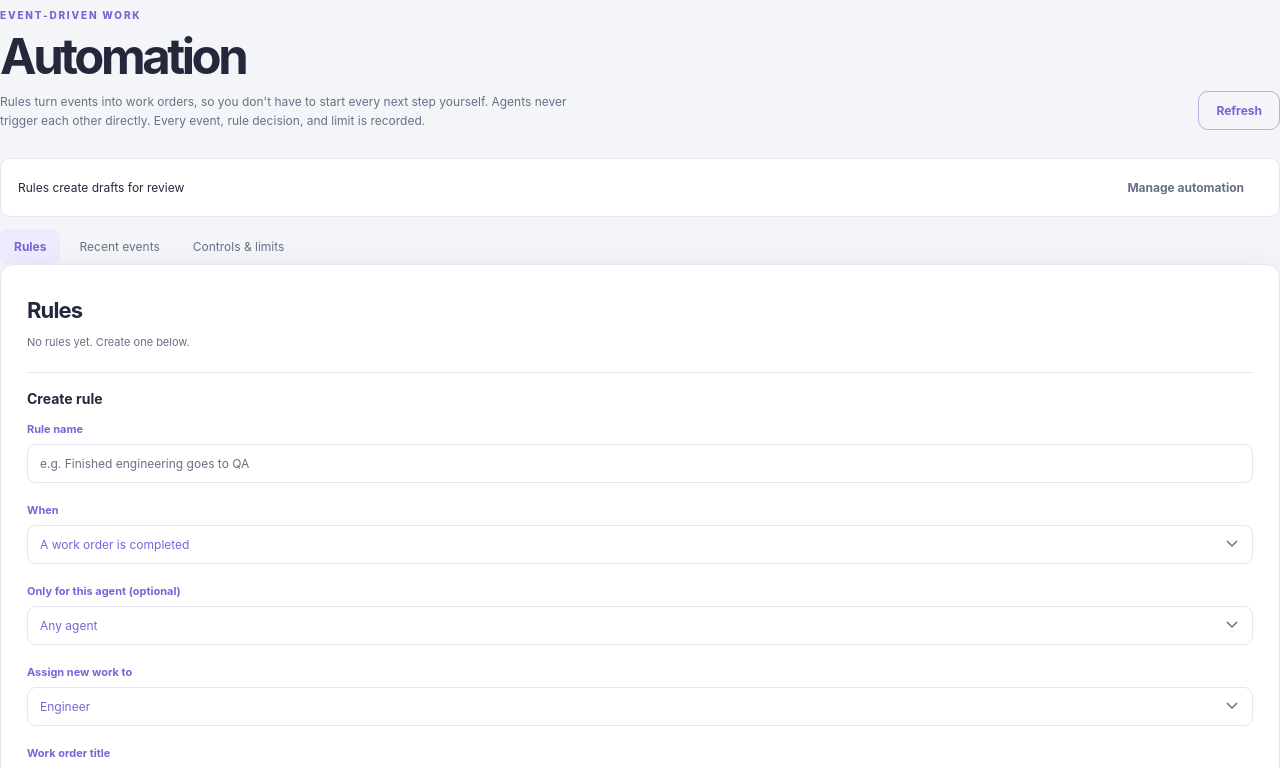
Test case: shows findings and what the Chief of Staff decided
Click the button "Recent events": (120, 247) [66,229,174,264]
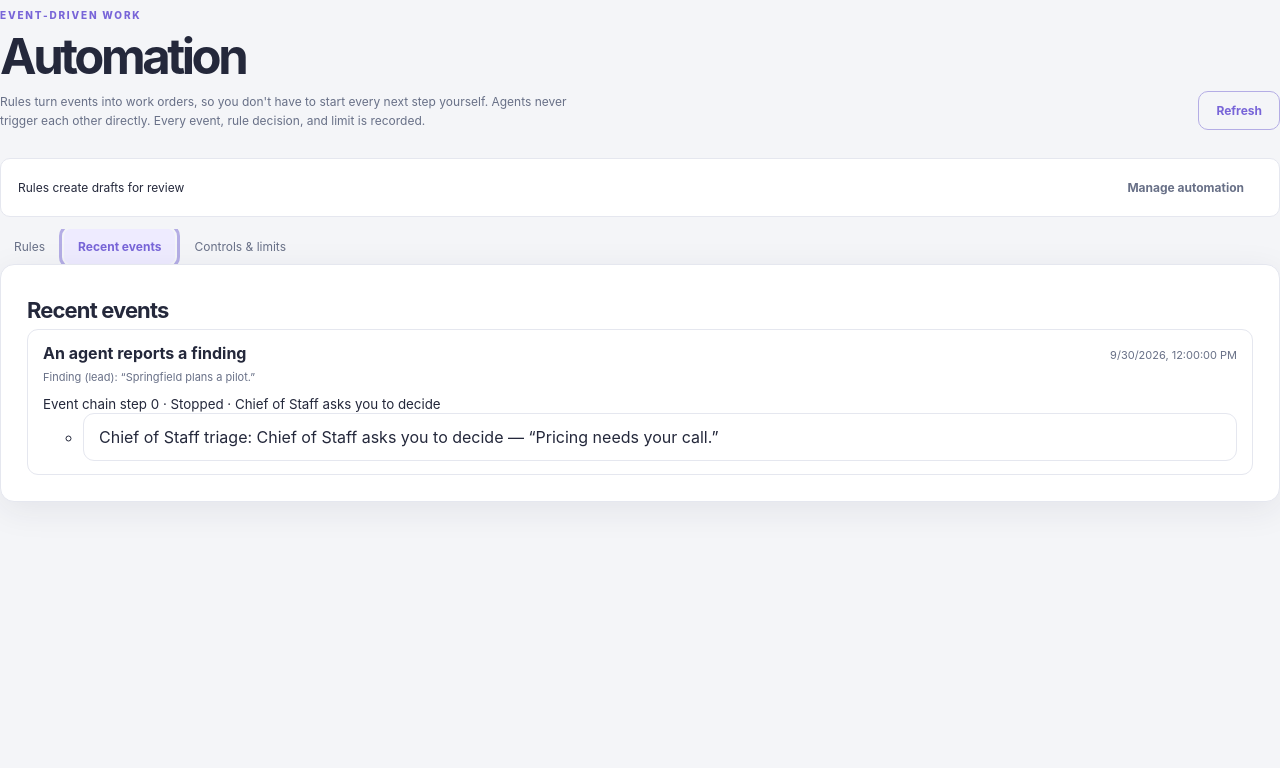
Expected: the text "Finding (lead): “Springfield plans a pilot.”" is shown, [43,370,255,384]
Expected: the list item "Chief of Staff triage: Chief of Staff asks you to decide" is shown, [83,413,1237,461]
Expected: the list item "Pricing needs your call." is shown, [536,427,711,447]
Click the button "Rules": (30, 247) [0,229,59,264]
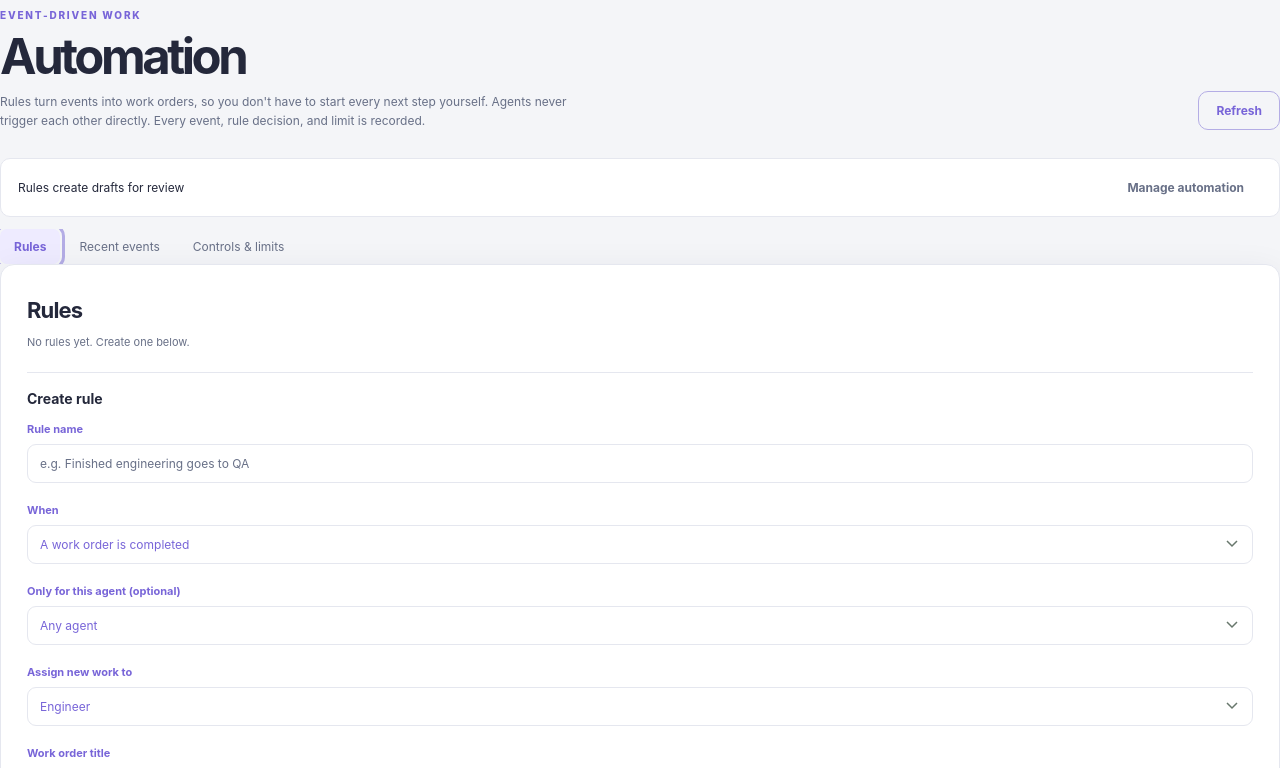
Select "An agent reports a finding" in the dropdown labelled "When": (640, 544) [27,525,1253,564]
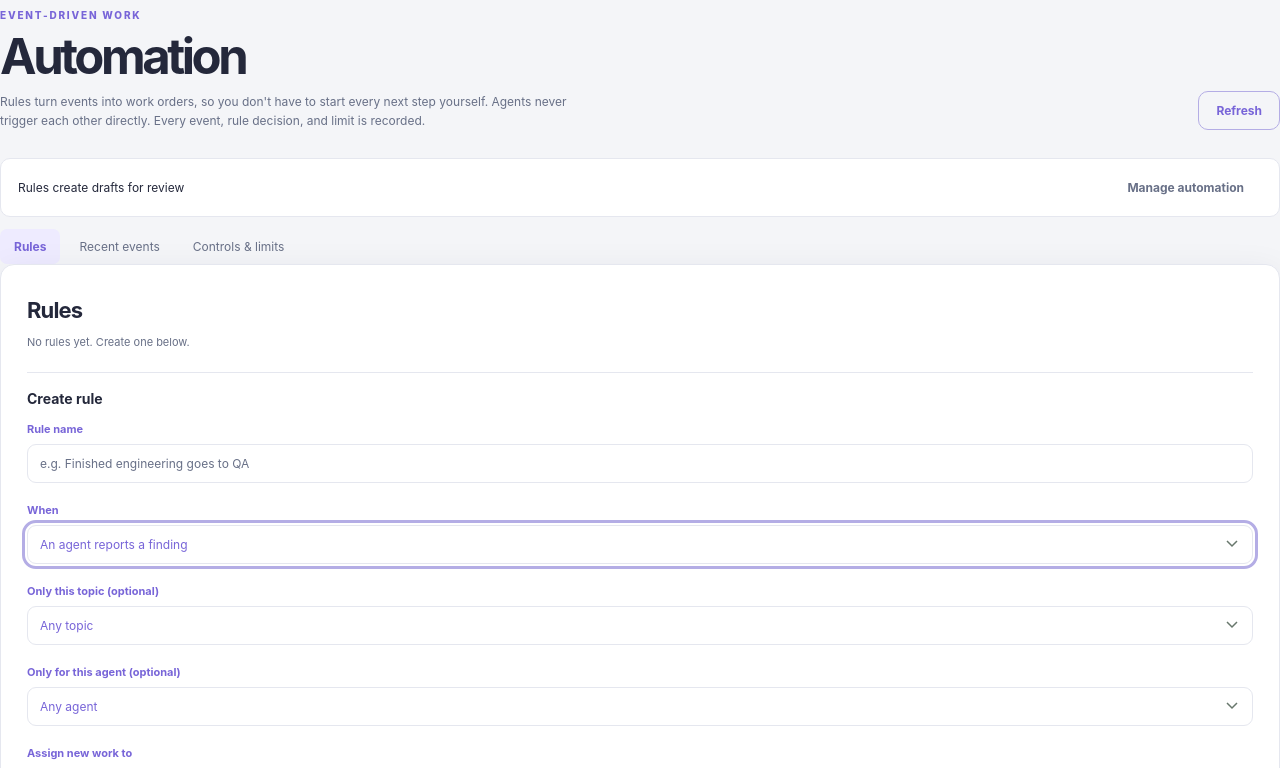
Expected: the dropdown labelled "Only this topic (optional)" is shown, [27,606,1253,645]
